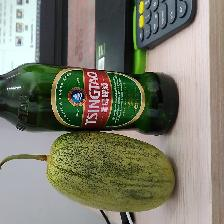gua: (35, 131, 176, 211)
